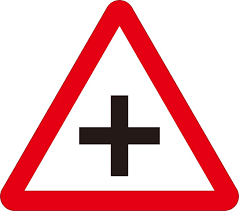Fork_road: (2, 2, 238, 207)
